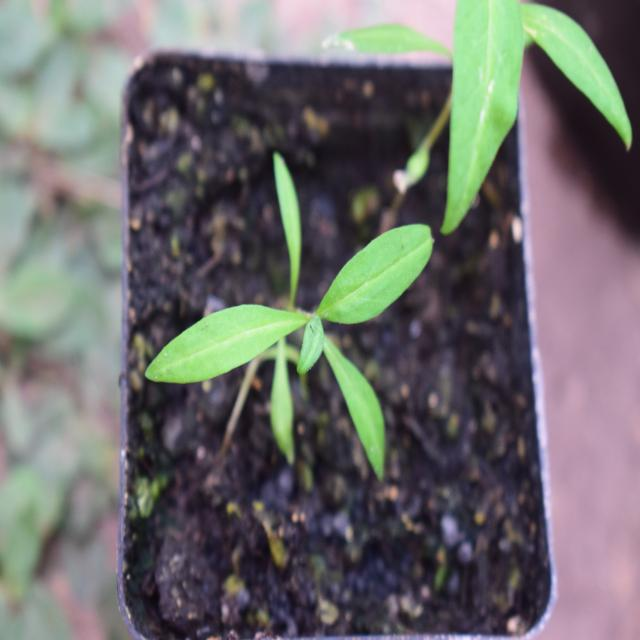white_smart_weed: (135, 195, 477, 528)
